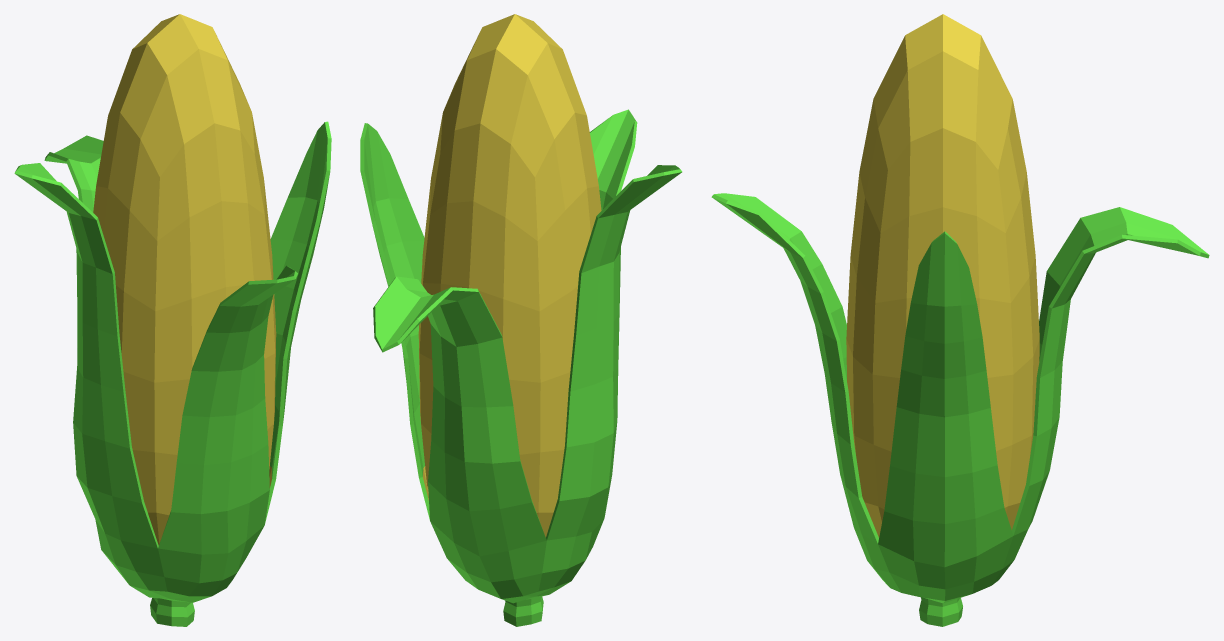
Rendered from SM_Corn.fbx.
3 renders of one model, left to right at view 1: azimuth 30°, elevation 25°; view 2: azimuth 150°, elevation 25°; view 3: azimuth 270°, elevation 25°, orthographic.
Parts seen in each view (by area): view 1: earofcorn; view 2: earofcorn; view 3: earofcorn.
Part boxes in pixels (box(x1,y1,x2,y2)): earofcorn: box(14, 14, 331, 626); earofcorn: box(360, 14, 682, 626); earofcorn: box(711, 14, 1209, 626).
Size of the model in its own units: 19.84 by 36.5 by 26.9.
